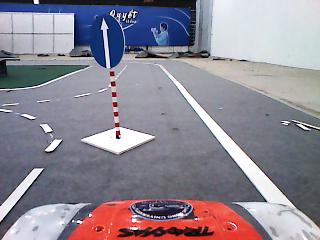straight: (87, 13, 128, 70)
